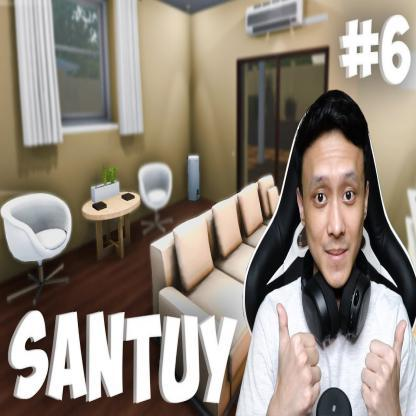kursi: (3, 192, 76, 297)
